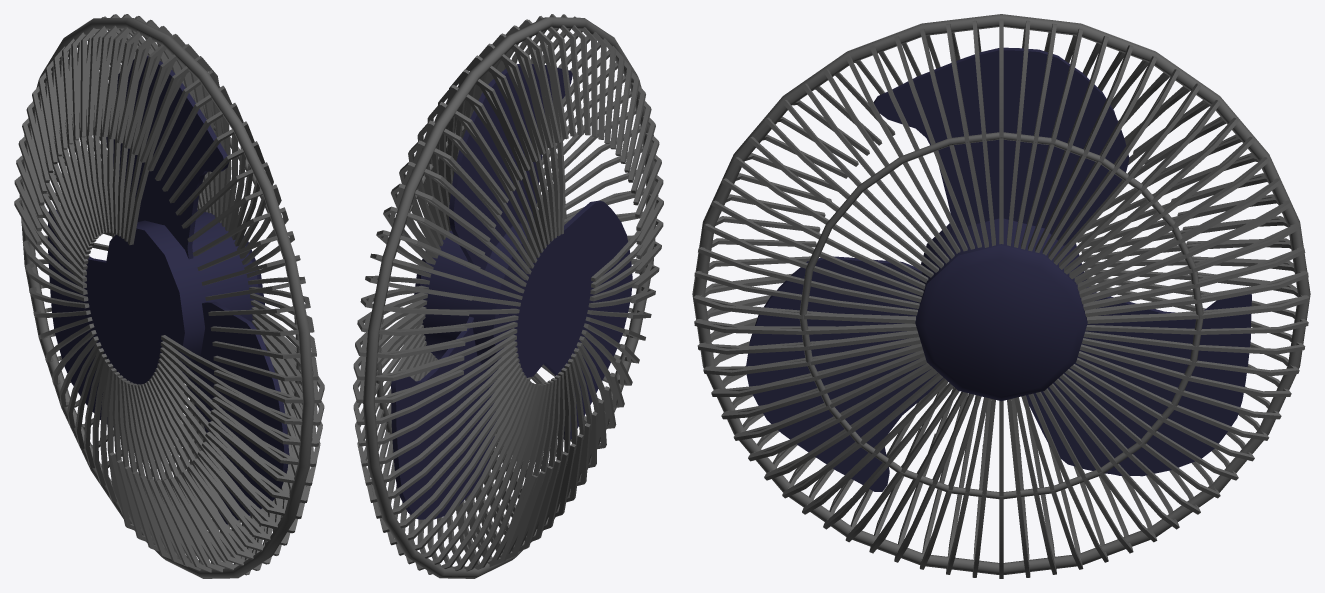
File: ventilotorrrr (1).fbx
3 views of the same model, side by side, from view 1: azimuth 30°, elevation 25°; view 2: azimuth 150°, elevation 25°; view 3: azimuth 270°, elevation 25° (orthographic). The views are drawn at different scales.
Parts seen in each view (by area): view 1: Line048, Cylinder004; view 2: Line048, Cylinder004; view 3: Line048, Cylinder004.
Part boxes in pixels (x1=…): Line048: x1=14, y1=14, x2=324, y2=578; Cylinder004: x1=48, y1=55, x2=289, y2=524; Line048: x1=353, y1=14, x2=663, y2=578; Cylinder004: x1=391, y1=64, x2=632, y2=519; Line048: x1=692, y1=14, x2=1310, y2=578; Cylinder004: x1=746, y1=47, x2=1251, y2=491.
Size of the model in its own units: 228 by 1057 by 1057.
